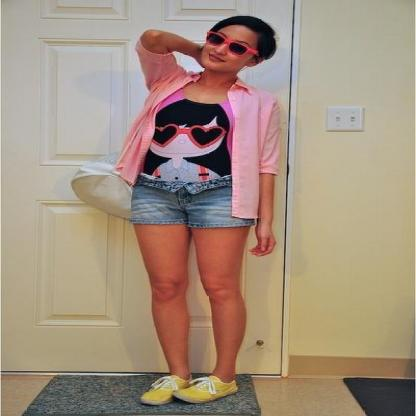jacket: (101, 51, 290, 218)
shirt: (141, 98, 254, 192)
shoe: (142, 375, 237, 402)
shorts: (129, 187, 259, 235)
sunglass: (207, 28, 269, 64)
